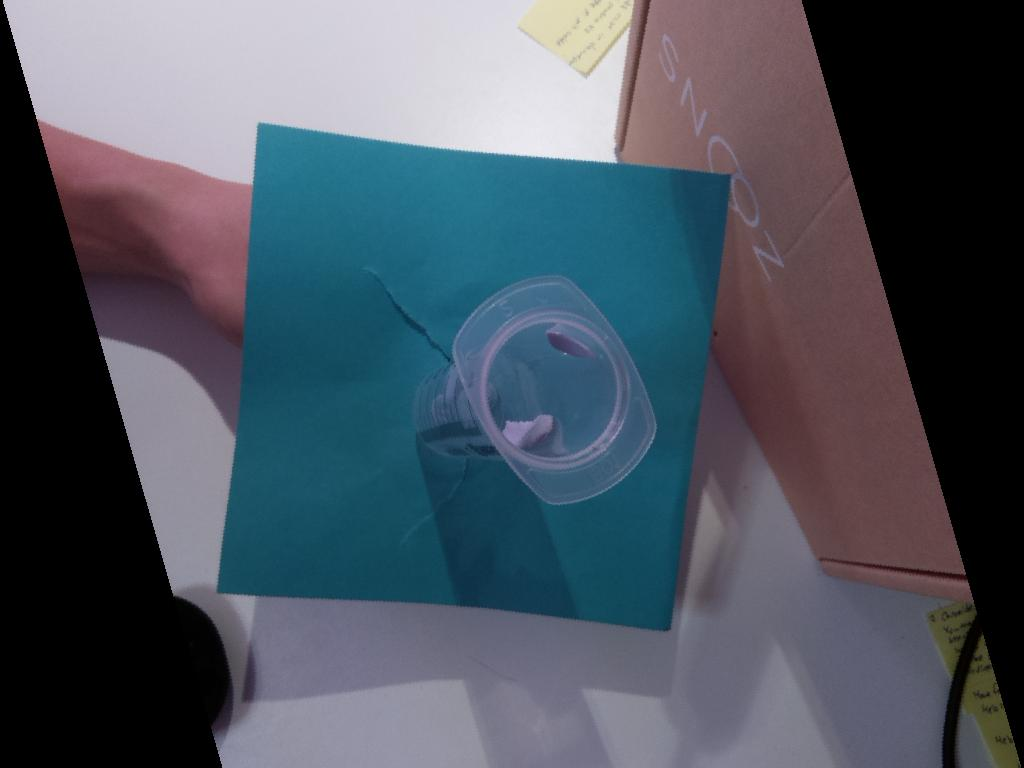dirty: (452, 277, 657, 504)
